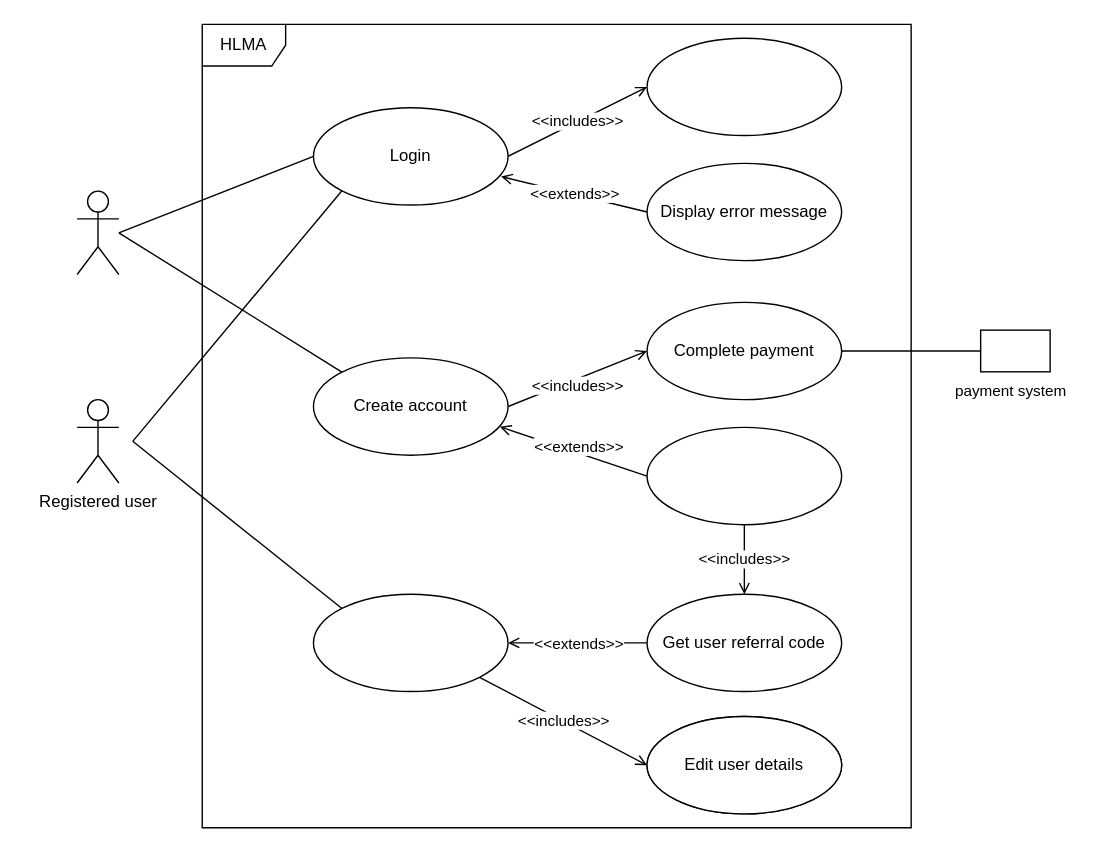
Image size: 1102x852. Some labels were removed from this diagram. Each missing label, with the centre of its shape:
Apply user referral code: the point at 744,475
Non-registered user: the point at 97,232
Verify account: the point at 744,86
View user details: the point at 410,642
